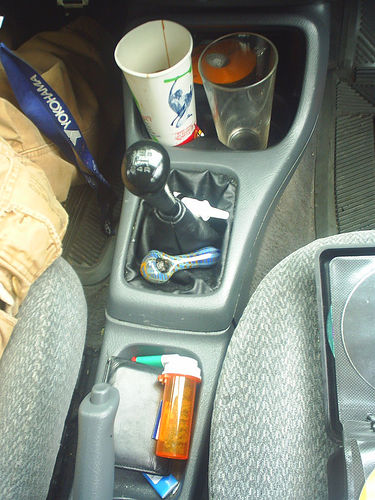pill bottle: (152, 354, 202, 463)
